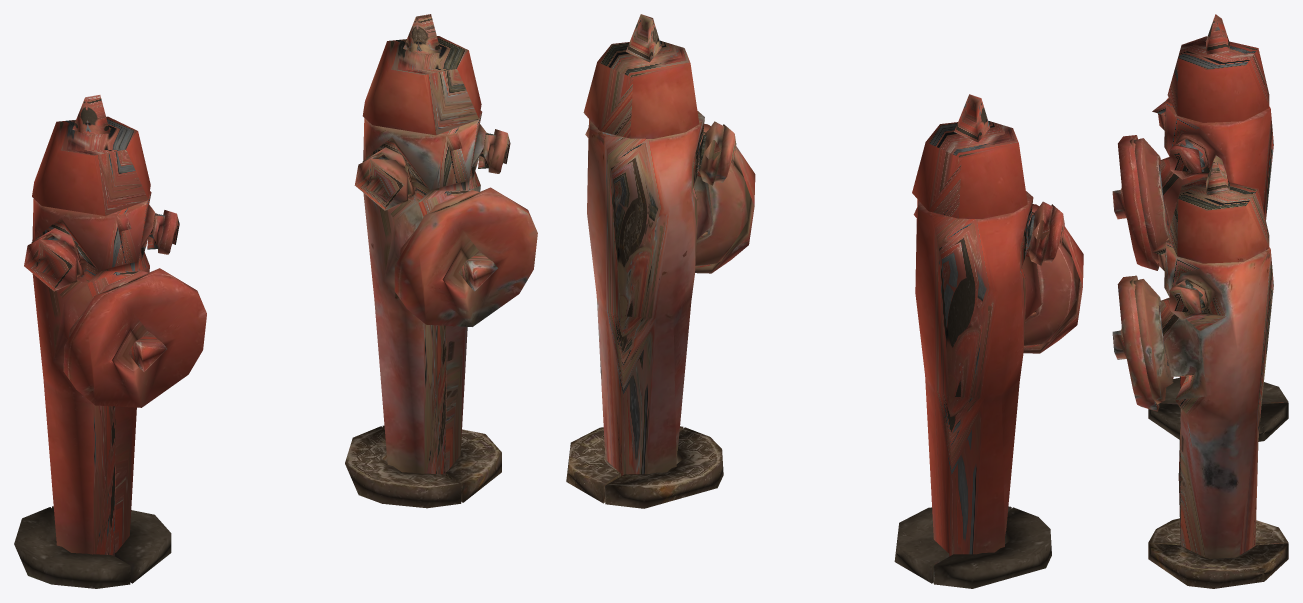
Rendered from fire_hydrant.glb.
The picture shows the model from 3 angles, left to right: view 1: azimuth 30°, elevation 25°; view 2: azimuth 150°, elevation 25°; view 3: azimuth 270°, elevation 25°; orthographic projection. The views are drawn at different scales.
Parts seen in each view (by area): view 1: fire_hydrant, fire_hydrant_aged; view 2: fire_hydrant, fire_hydrant_aged; view 3: fire_hydrant_aged, fire_hydrant.
Boxes of the visible parts, left/top/right/bottom form: fire_hydrant: left=14, top=95, right=206, bottom=588; fire_hydrant_aged: left=345, top=14, right=537, bottom=508; fire_hydrant: left=894, top=94, right=1083, bottom=588; fire_hydrant_aged: left=566, top=14, right=755, bottom=508; fire_hydrant_aged: left=1112, top=155, right=1288, bottom=588; fire_hydrant: left=1112, top=14, right=1288, bottom=441.
Size of the model in its own units: 0.8637 by 0.7992 by 0.3173.
2 materials, 2 textured.
